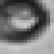correct: (0, 0, 54, 43)
